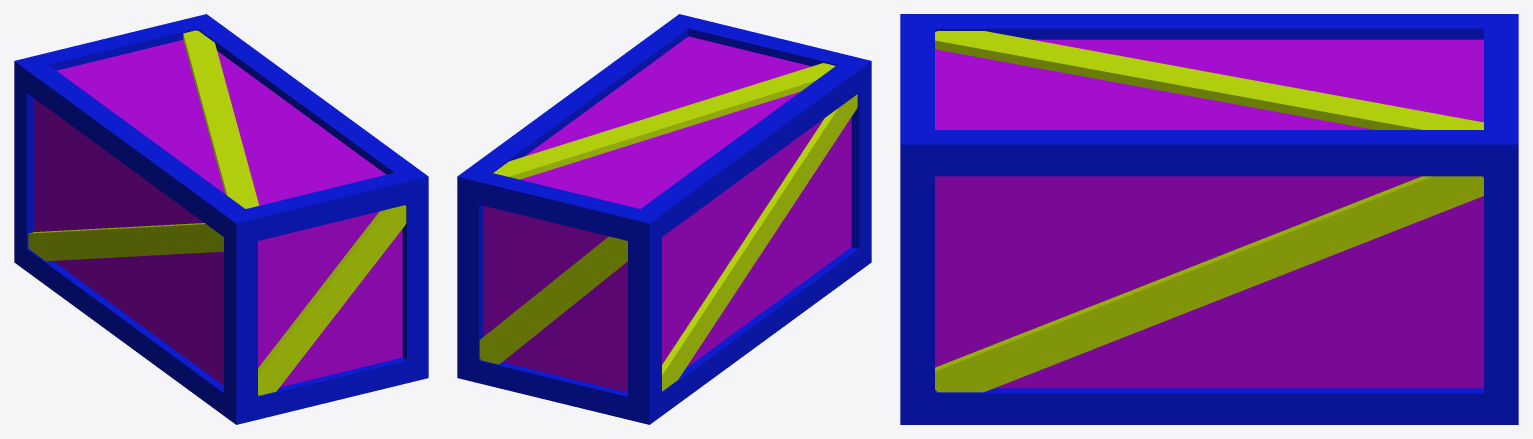
3 renders of one model, left to right at view 1: azimuth 30°, elevation 25°; view 2: azimuth 150°, elevation 25°; view 3: azimuth 270°, elevation 25°, orthographic. The views are drawn at different scales.
Parts seen in each view (by area): view 1: Box2_High; view 2: Box2_High; view 3: Box2_High.
Boxes of the visible parts, bbox=[...] form: Box2_High: bbox=[14, 14, 428, 424]; Box2_High: bbox=[457, 14, 871, 424]; Box2_High: bbox=[900, 14, 1518, 424].
Size of the model in its own units: 100 by 100 by 200.
